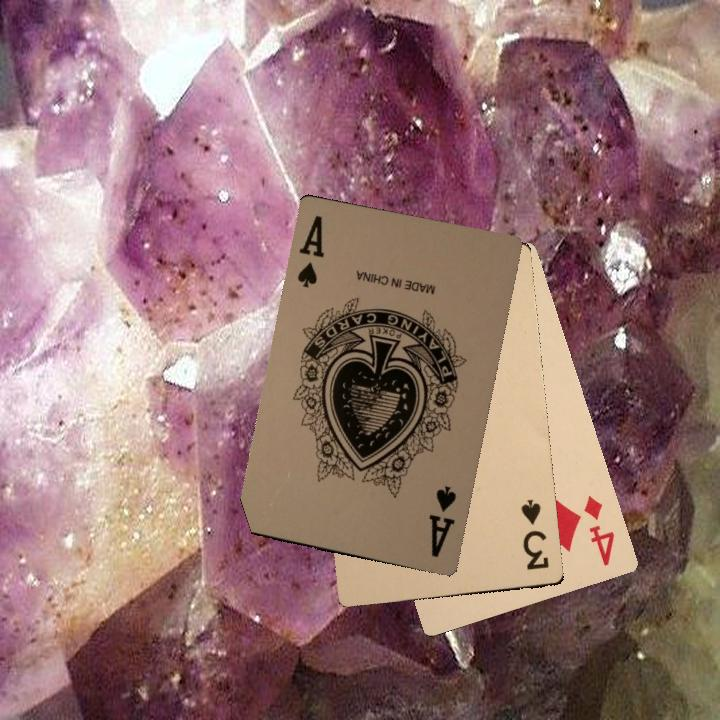3s: (517, 495, 551, 572)
4d: (579, 491, 617, 569)
As: (425, 481, 459, 560), (293, 211, 327, 289)
